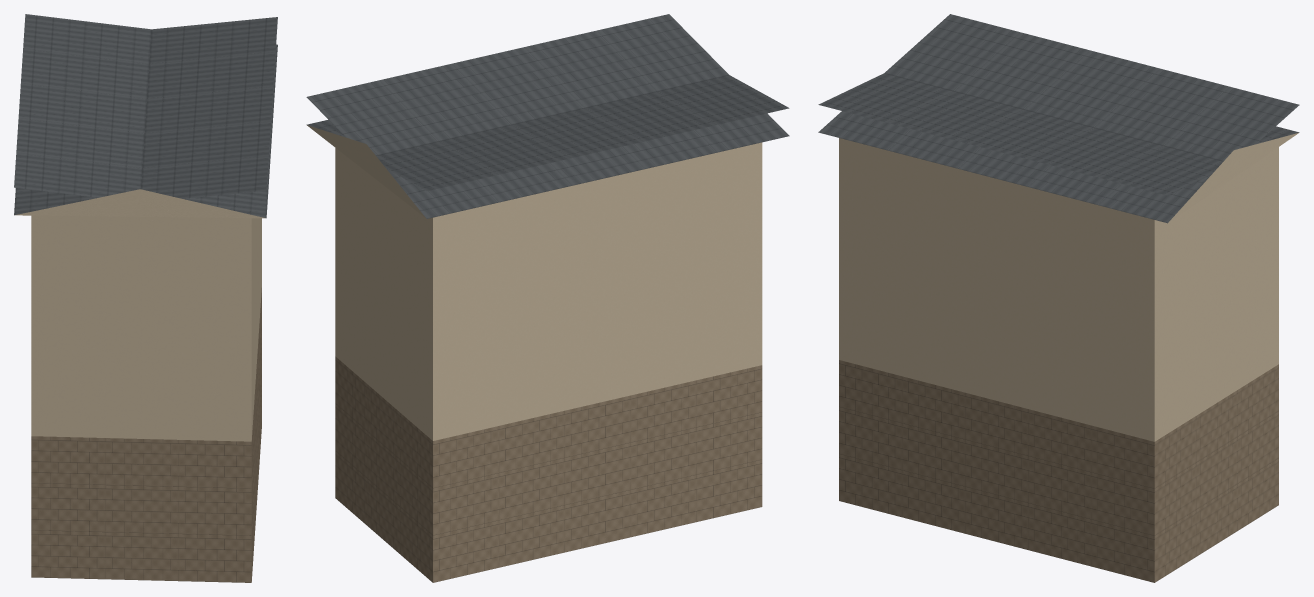
Rendered from bld_c18_27_390.gltf.
3 renders of one model, left to right at view 1: azimuth 30°, elevation 25°; view 2: azimuth 150°, elevation 25°; view 3: azimuth 270°, elevation 25°, orthographic.
Parts seen in each view (by area): view 1: bld_c18_27_390; view 2: bld_c18_27_390; view 3: bld_c18_27_390.
Part boxes in pixels (x1,y1,x2,y2): bld_c18_27_390: (14,14,277,582); bld_c18_27_390: (306,14,789,582); bld_c18_27_390: (818,14,1299,582).
Bounding box in the file's own units: 14.08 × 14.4 × 15.79.
4 materials, 4 textured.
